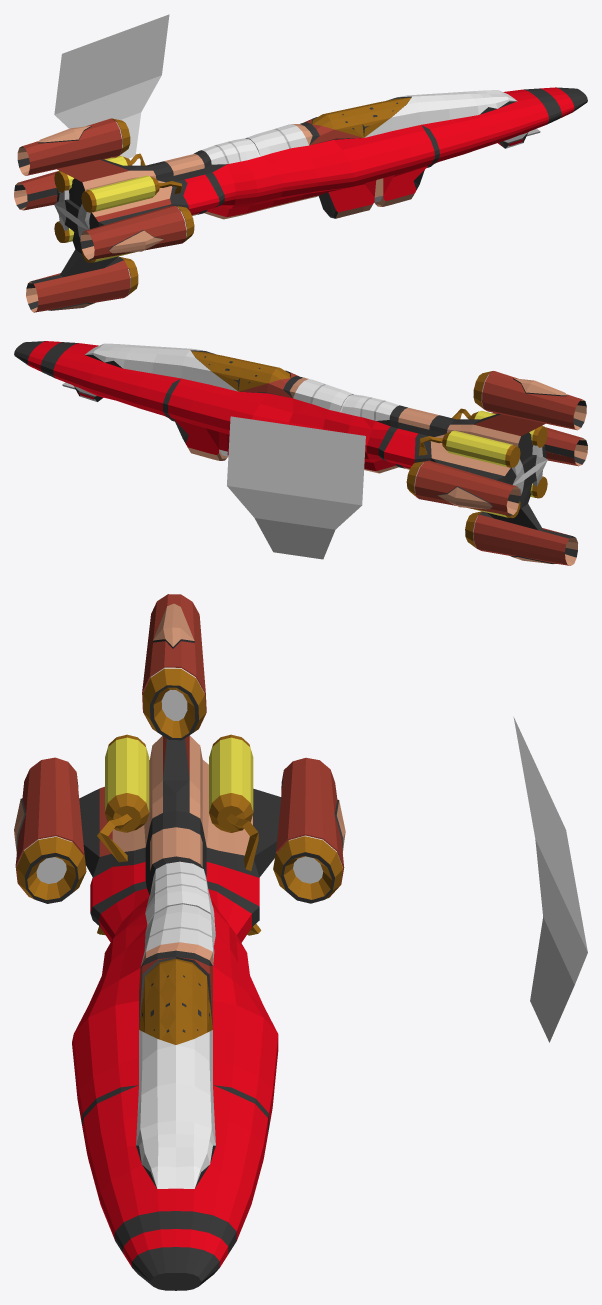
File: BCS.fbx
The picture shows the model from 3 angles, top to bottom: view 1: azimuth 30°, elevation 25°; view 2: azimuth 150°, elevation 25°; view 3: azimuth 270°, elevation 25°; orthographic projection. The views are drawn at different scales.
Parts seen in each view (by area): view 1: CargoSP.001, CBSShield; view 2: CargoSP.001, CBSShield; view 3: CargoSP.001, CBSShield.
Part boxes in pixels (bbox=[...]): CargoSP.001: bbox=[14, 87, 587, 312]; CBSShield: bbox=[54, 14, 169, 158]; CargoSP.001: bbox=[14, 341, 587, 565]; CBSShield: bbox=[227, 416, 365, 559]; CargoSP.001: bbox=[14, 594, 345, 1290]; CBSShield: bbox=[513, 717, 587, 1042].
Bounding box in the file's own units: 471 × 144 × 218.
